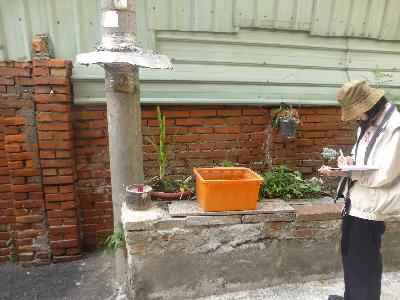box: (192, 166, 264, 213)
